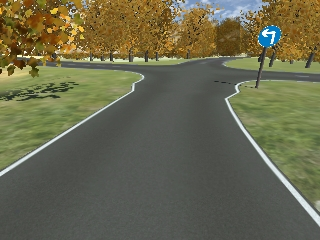left: (257, 25, 281, 47)
